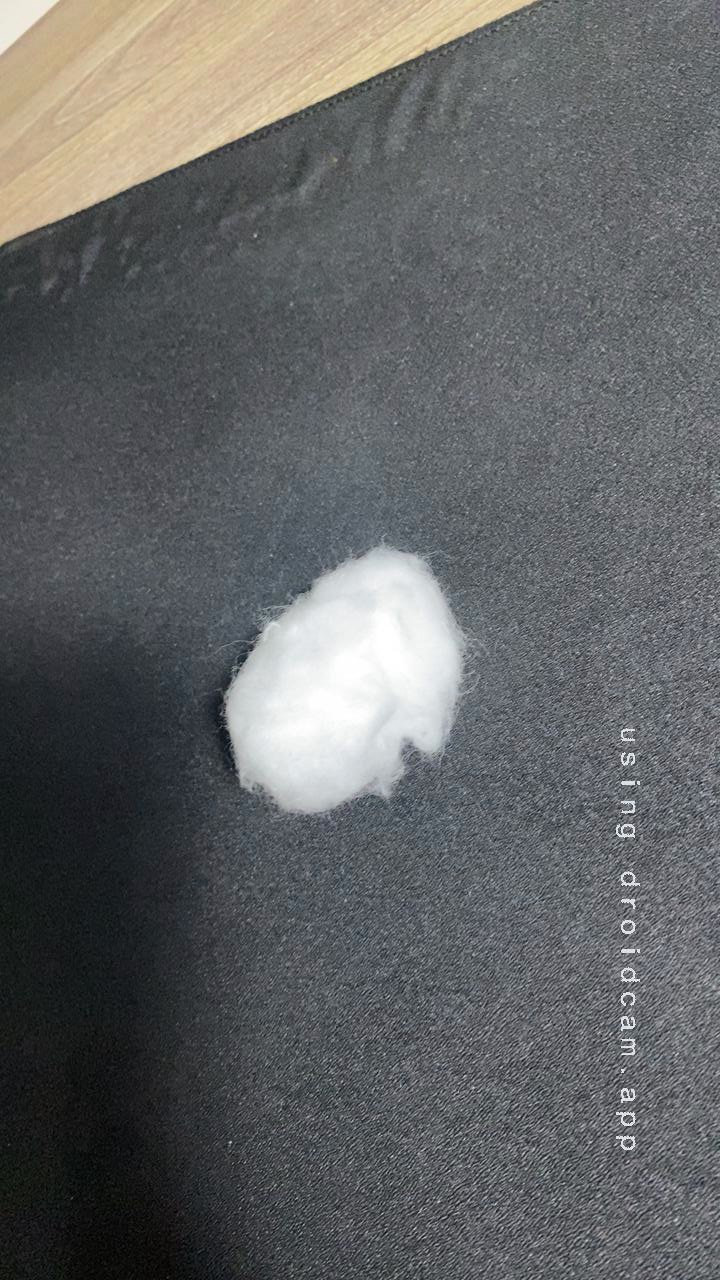cotton: (194, 530, 497, 827)
